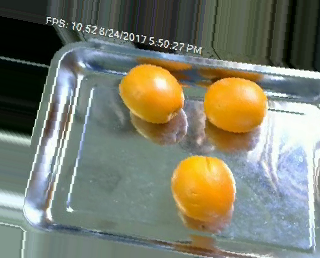Orange: (171, 153, 236, 221), (118, 63, 185, 123), (203, 76, 267, 133)
